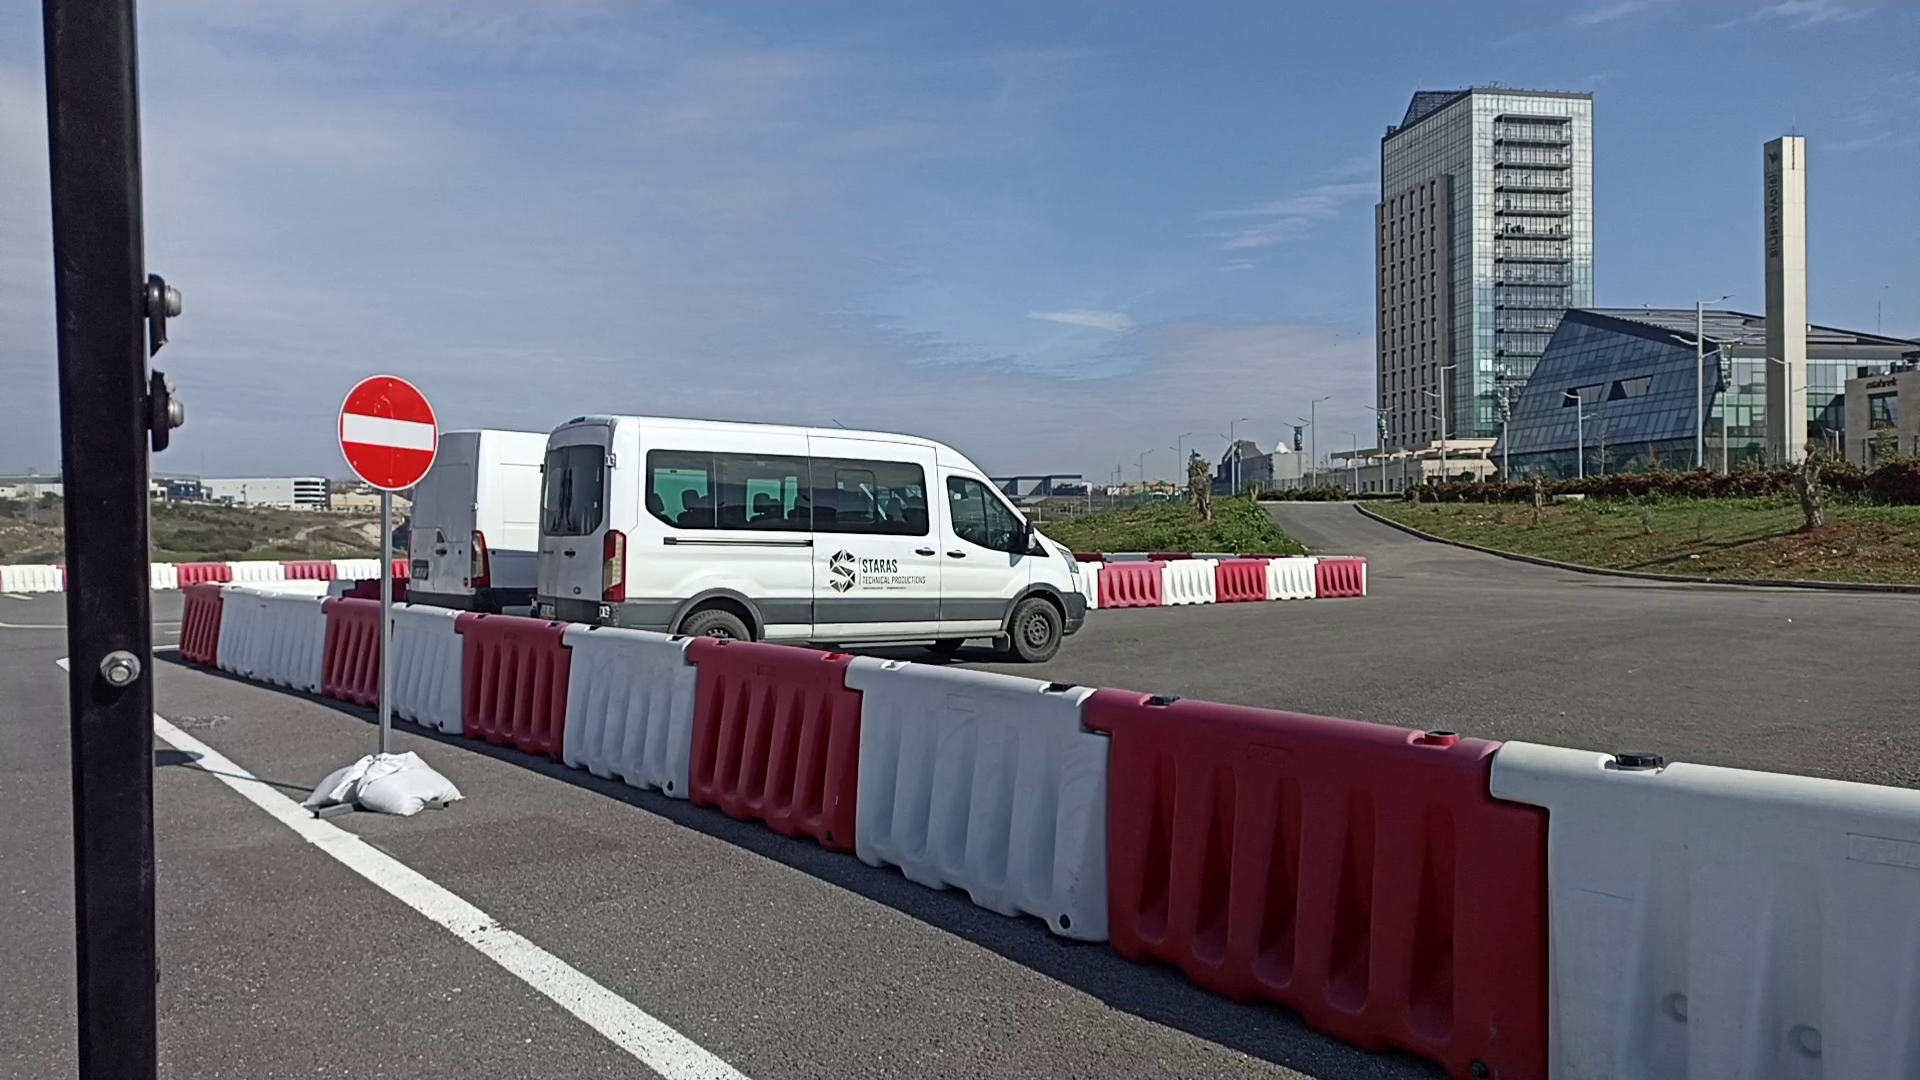noentryway: (334, 372, 444, 493)
